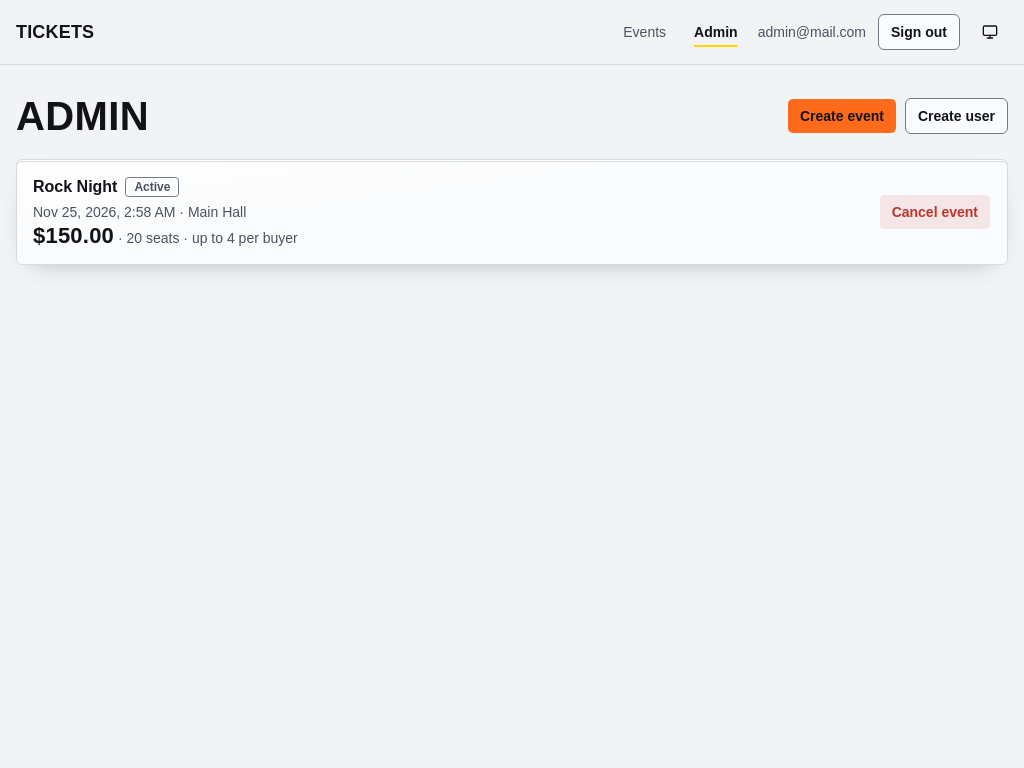
Scenario: CancelEvent › sends nothing when the dialog is dismissed
The image size is (1024, 768).
Click the button with aria-label "Cancel event Rock Night" at (935, 212), box 879,194 -> 991,230
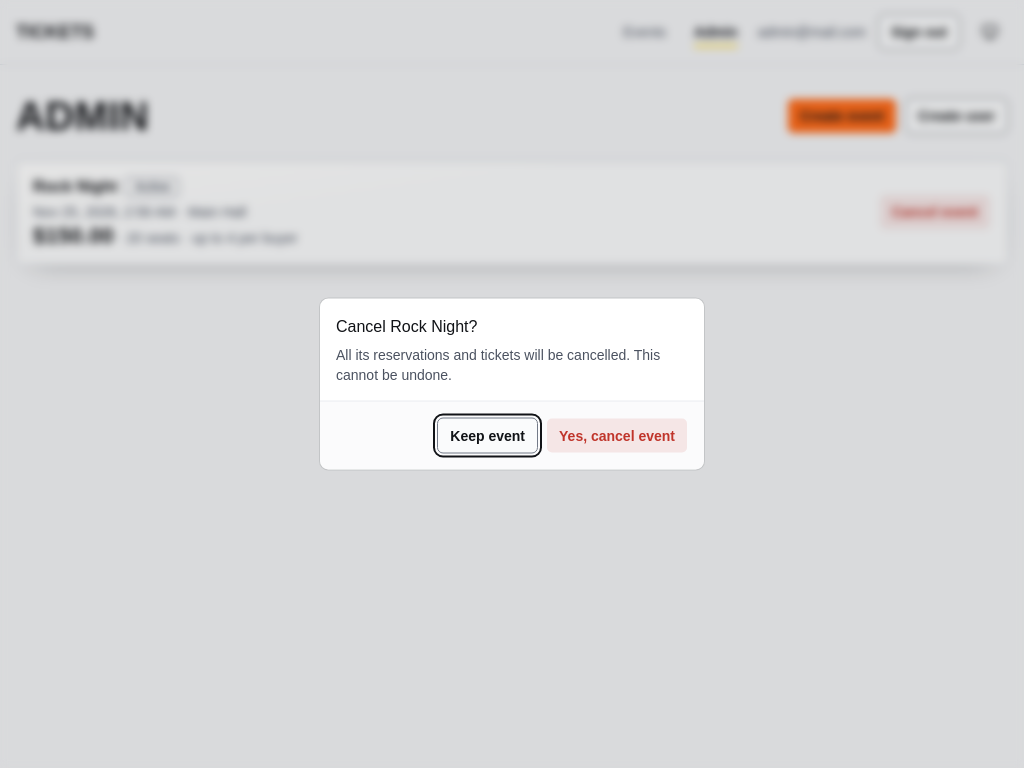
Click the button "Keep event" at (488, 436), box 437,418 -> 538,454
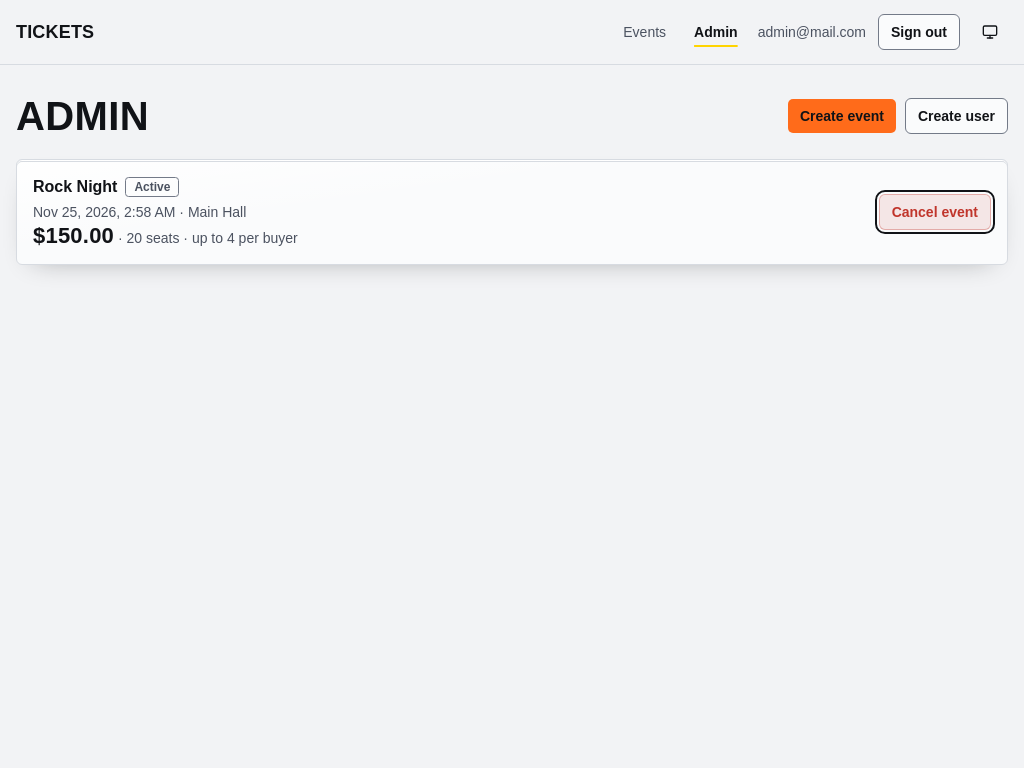
expect the icon "Active" is shown: met, box 126,177 -> 180,197
expect the dialog is gone: met
